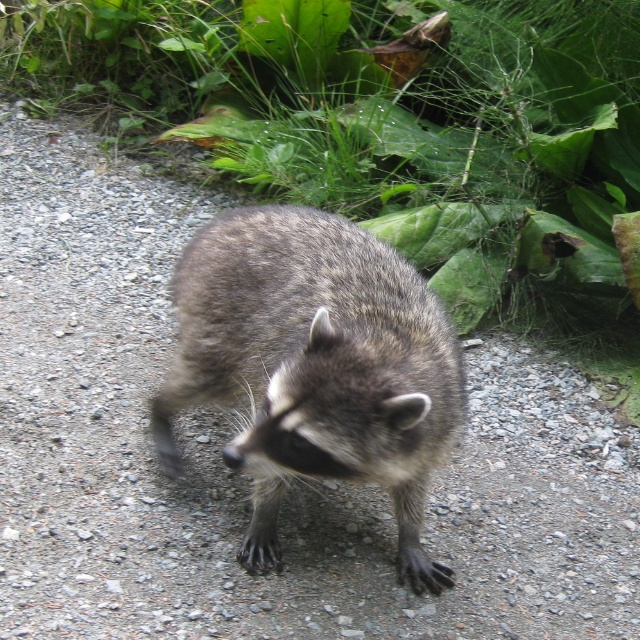Raccoon: (150, 205, 466, 596)
